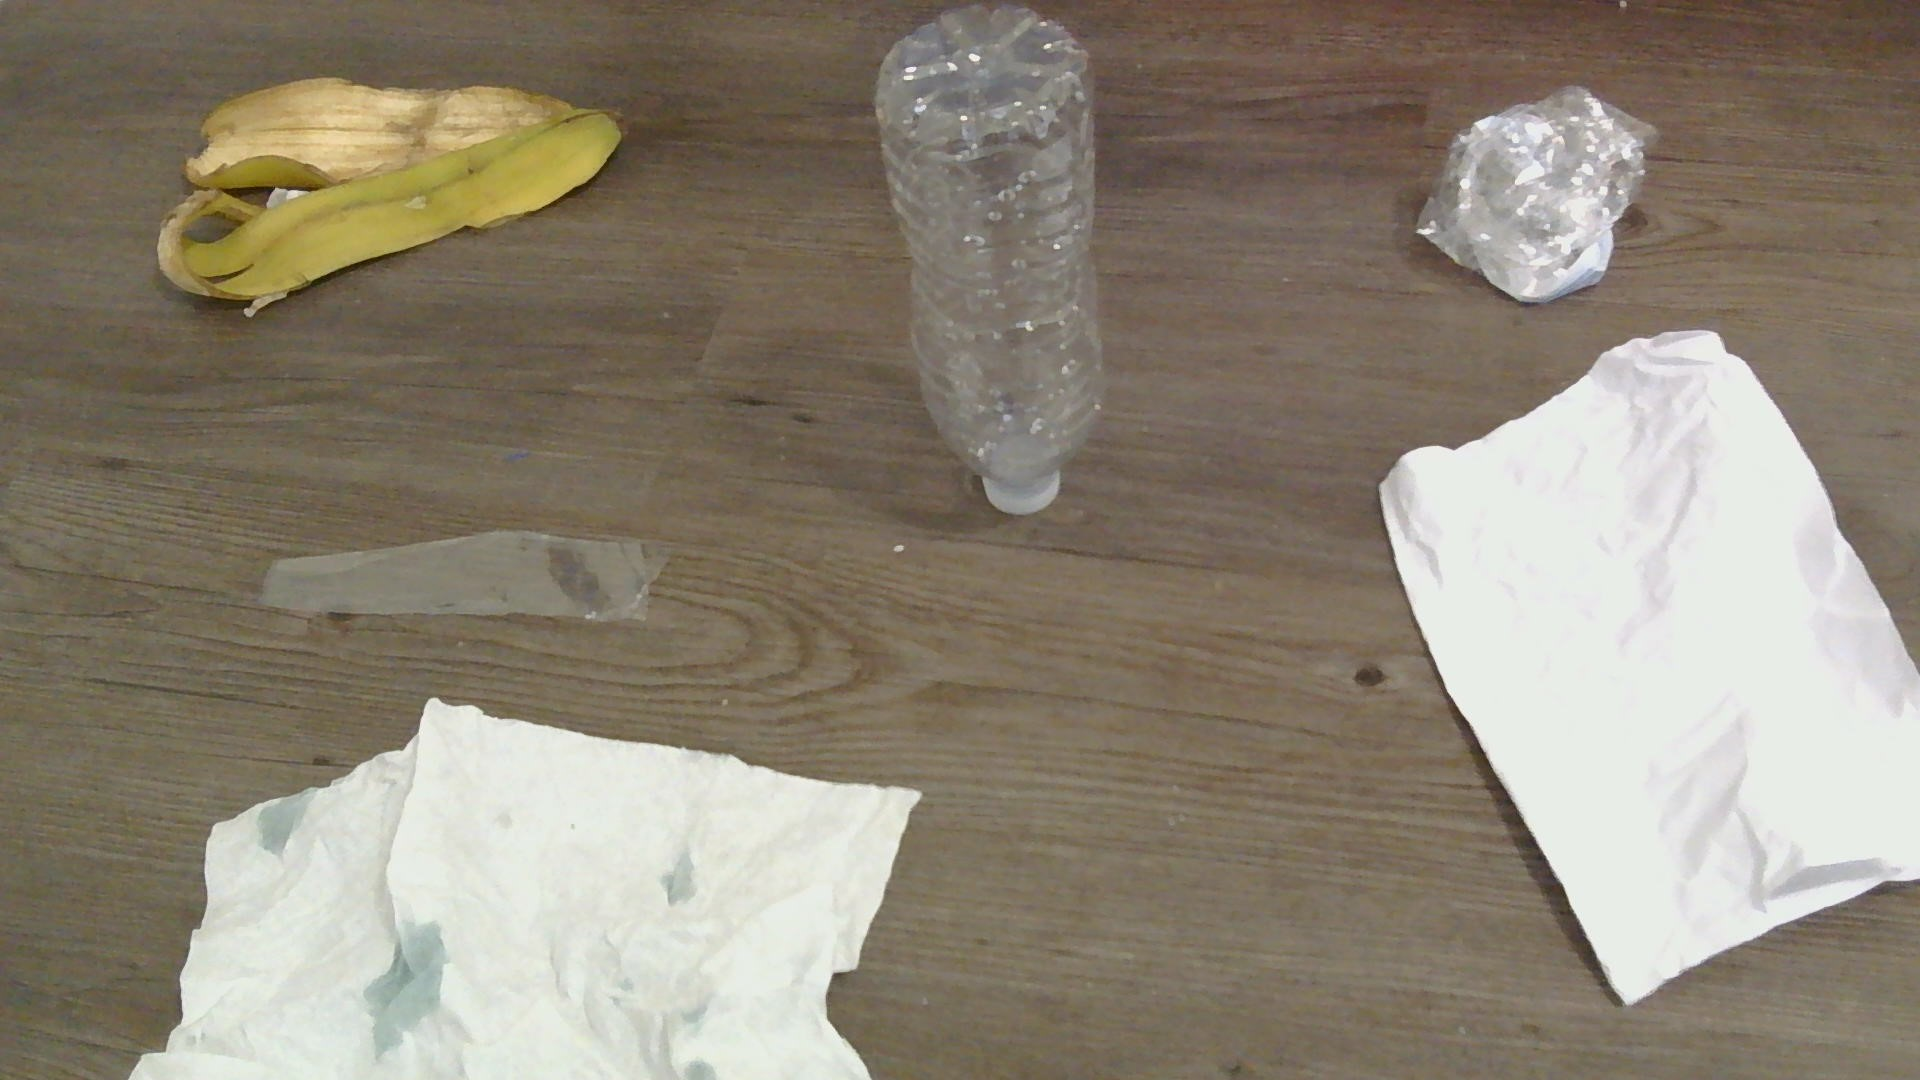banana peel: (150, 90, 626, 315)
bottle: (870, 0, 1106, 520)
crushed bottle: (1410, 78, 1659, 303)
napkin: (128, 698, 922, 1079)
paper: (1374, 330, 1917, 1000)
plastic piece: (258, 522, 675, 626)
